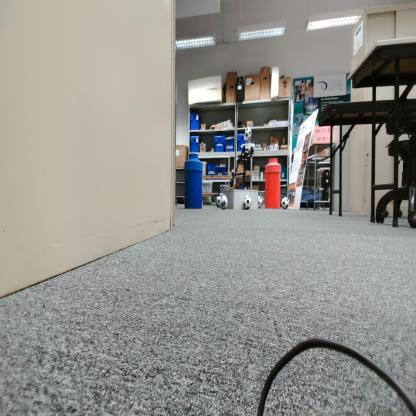ball: (243, 195, 252, 209), (220, 195, 228, 209), (281, 197, 289, 209), (244, 127, 252, 138), (258, 196, 262, 208), (216, 194, 219, 208)
